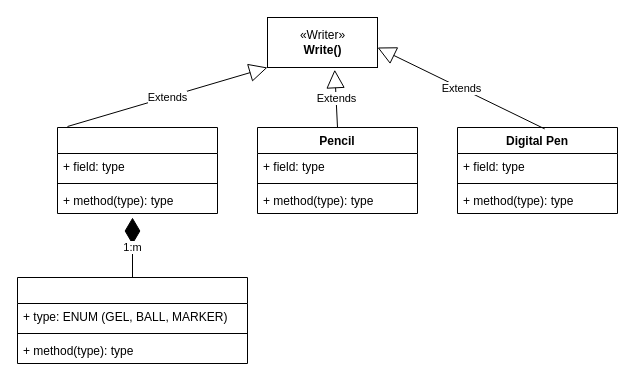
The diagram is 635 pixels wide and 384 high, and some of its shapes have lost their labels. The box of each missing label's shape, as (x1, y1, x2, y2) in pixels:
Pen: (56, 126, 218, 214)
Refill: (16, 276, 248, 364)
